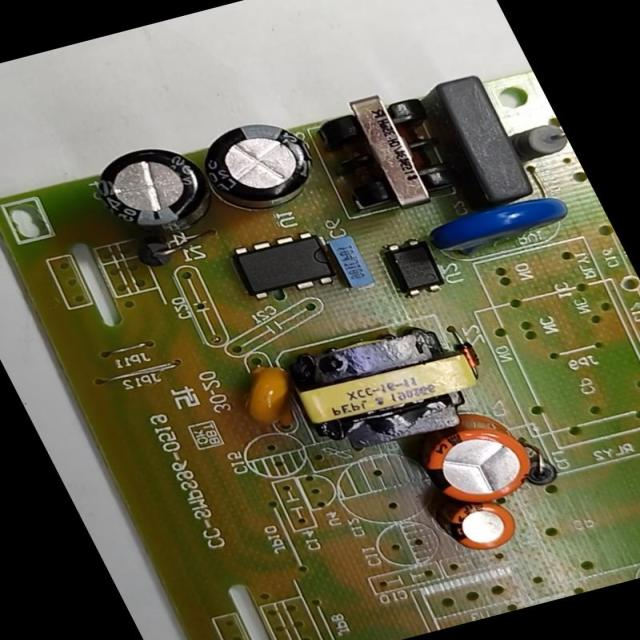Cap1: (400, 403, 557, 517)
Cap2: (433, 493, 527, 560)
Cap3: (184, 110, 336, 224)
Cap4: (75, 136, 228, 250)
MOSFET: (216, 221, 354, 310)
Mov: (410, 179, 584, 266)
Resistor: (510, 118, 575, 167)
Transformer: (262, 310, 505, 465), (294, 78, 475, 225)
